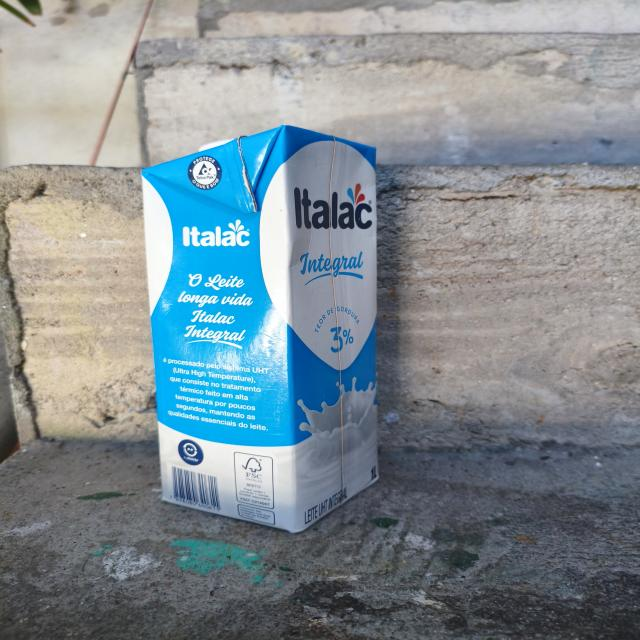Caixa de Leite: (136, 117, 406, 537)
